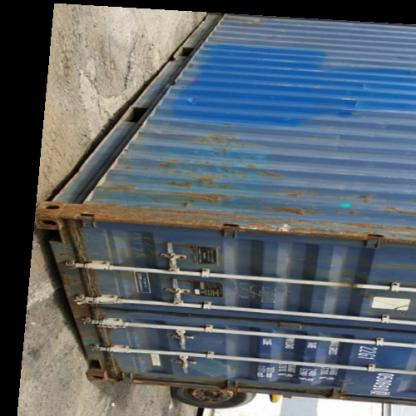Damage: (58, 204, 414, 246), (160, 157, 226, 189), (230, 272, 286, 306), (345, 76, 379, 119), (336, 274, 382, 305), (191, 124, 245, 150), (257, 162, 290, 186), (225, 12, 266, 28), (181, 92, 202, 107)
